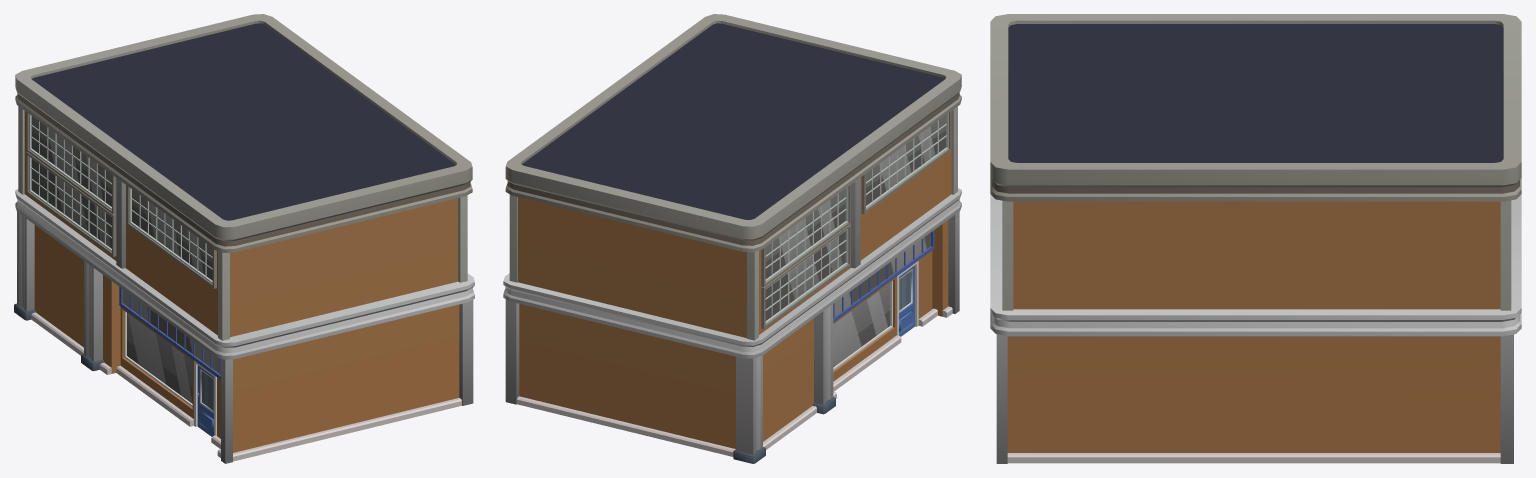
Rendered from Building_11_3_H.fbx.
3 renders of one model, left to right at view 1: azimuth 30°, elevation 25°; view 2: azimuth 150°, elevation 25°; view 3: azimuth 270°, elevation 25°, orthographic. The views are drawn at different scales.
Visible parts, largest first — view 1: Building_11_3_H; view 2: Building_11_3_H; view 3: Building_11_3_H.
Part boxes in pixels (left/top/right/bottom): Building_11_3_H: left=14, top=14, right=474, bottom=463; Building_11_3_H: left=503, top=14, right=961, bottom=463; Building_11_3_H: left=990, top=14, right=1521, bottom=463.
Size of the model in its own units: 814 by 715 by 1163.
